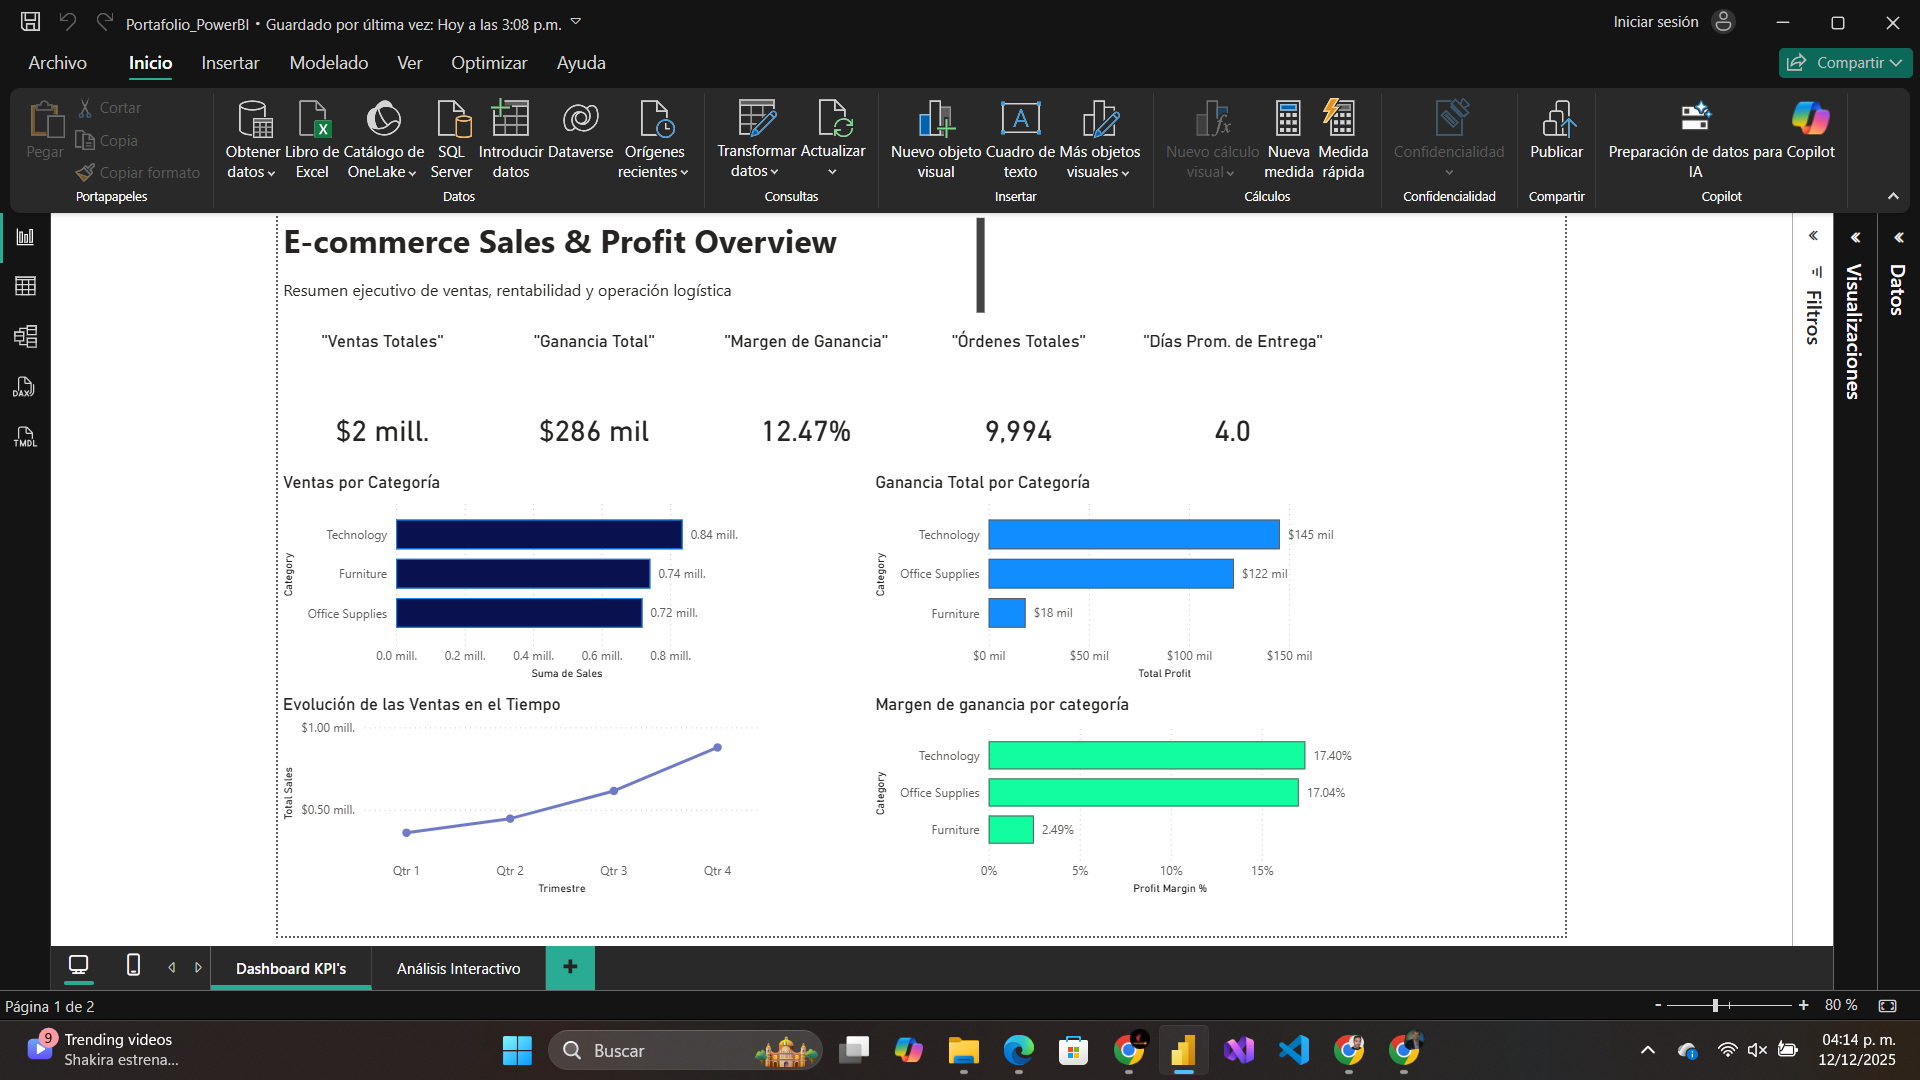

This screenshot's page, from the dashboard's own definition file:
{"tool":"powerbi","page":{"name":"Dashboard KPI's","canvas":[1280,720],"ordinal":0},"visuals":[{"type":"card","title":"\"Ventas Totales\"","fields":{"Values":["ecommerce_clean_bi.Total Sales"]},"box":[0,116.9,207.7,176.6],"z":0},{"type":"card","title":"\"Ganancia Total\"","fields":{"Values":["ecommerce_clean_bi.Total Profit"]},"box":[212.7,116.9,204,176.6],"z":1000},{"type":"card","title":"\"Órdenes Totales\"","fields":{"Values":["ecommerce_clean_bi.Total Orders"]},"box":[635.7,116.9,202.8,176.6],"z":2000},{"type":"card","title":"\"Margen de Ganancia\"","fields":{"Values":["ecommerce_clean_bi.Profit Margin %"]},"box":[420.5,116.9,210.2,176.6],"z":3000},{"type":"card","title":"\"Días Prom. de Entrega\"","fields":{"Values":["ecommerce_clean_bi.Avg Delivery Days"]},"box":[842.2,116.9,216.4,176.6],"z":4000},{"type":"textbox","box":[0,0,707.8,107],"z":5000},{"type":"clusteredBarChart","title":"Ventas por Categoría","fields":{"Category":["ecommerce_clean_bi.Category"],"Y":["Sum(ecommerce_clean_bi.Sales)"]},"box":[0,257.5,483.9,211.5],"z":6000},{"type":"lineChart","title":"Evolución de las Ventas en el Tiempo","fields":{"Category":["ecommerce_clean_bi.Order Date.Variación.Jerarquía de fechas.Año","ecommerce_clean_bi.Order Date.Variación.Jerarquía de fechas.Trimestre","ecommerce_clean_bi.Order Date.Variación.Jerarquía de fechas.Mes","ecommerce_clean_bi.Order Date.Variación.Jerarquía de fechas.Día"],"Y":["ecommerce_clean_bi.Total Sales"]},"box":[0,478.9,483.9,204],"z":7000},{"type":"clusteredBarChart","title":"Ganancia Total por Categoría","fields":{"Y":["ecommerce_clean_bi.Total Profit"],"Category":["ecommerce_clean_bi.Category"]},"box":[589.6,257.5,496.3,211.5],"z":8000},{"type":"clusteredBarChart","title":"Margen de ganancia por categoría","fields":{"Y":["ecommerce_clean_bi.Profit Margin %"],"Category":["ecommerce_clean_bi.Category"]},"box":[589.6,478.9,496.3,204],"z":9000}]}

Visuals, with their boxes on the page's 1280x720 design canvas (x1, y1, x2, y2). These are canvas units, not pixel positions in the 1920x1080 screenshot, which may show the page scaled, cropped or inside an application window:
""Ventas Totales"" card: Rect(0, 117, 208, 294)
""Ganancia Total"" card: Rect(213, 117, 417, 294)
""Órdenes Totales"" card: Rect(636, 117, 838, 294)
""Margen de Ganancia"" card: Rect(420, 117, 631, 294)
""Días Prom. de Entrega"" card: Rect(842, 117, 1059, 294)
textbox: Rect(0, 0, 708, 107)
"Ventas por Categoría" clusteredBarChart: Rect(0, 258, 484, 469)
"Evolución de las Ventas en el Tiempo" lineChart: Rect(0, 479, 484, 683)
"Ganancia Total por Categoría" clusteredBarChart: Rect(590, 258, 1086, 469)
"Margen de ganancia por categoría" clusteredBarChart: Rect(590, 479, 1086, 683)
